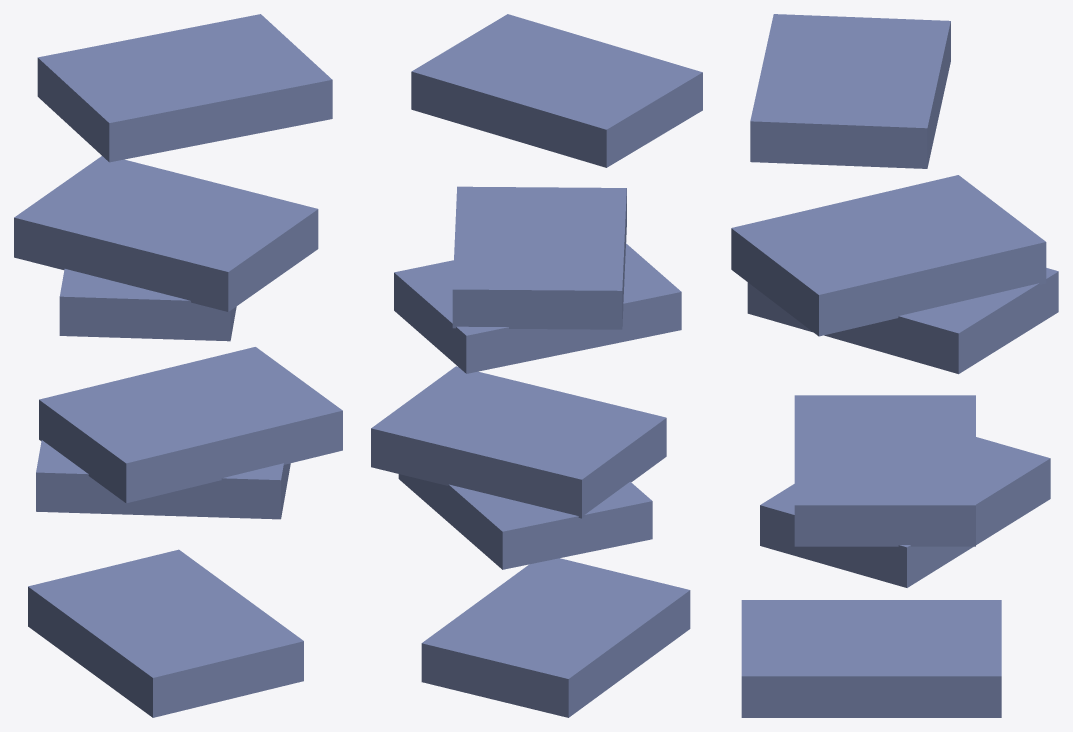
Rendered from Book_Pile_04A_Lod0.fbx.
3 views of the same model, side by side, from view 1: azimuth 30°, elevation 25°; view 2: azimuth 150°, elevation 25°; view 3: azimuth 270°, elevation 25° (orthographic). The views are drawn at different scales.
Visible parts, largest first — view 1: Book_Pile_04A_Lod0; view 2: Book_Pile_04A_Lod0; view 3: Book_Pile_04A_Lod0.
Boxes of the visible parts, <box> form: Book_Pile_04A_Lod0: <box>14,14,342,717</box>; Book_Pile_04A_Lod0: <box>371,14,702,717</box>; Book_Pile_04A_Lod0: <box>731,14,1058,717</box>.
Size of the model in its own units: 31.36 by 67.4 by 32.64.
